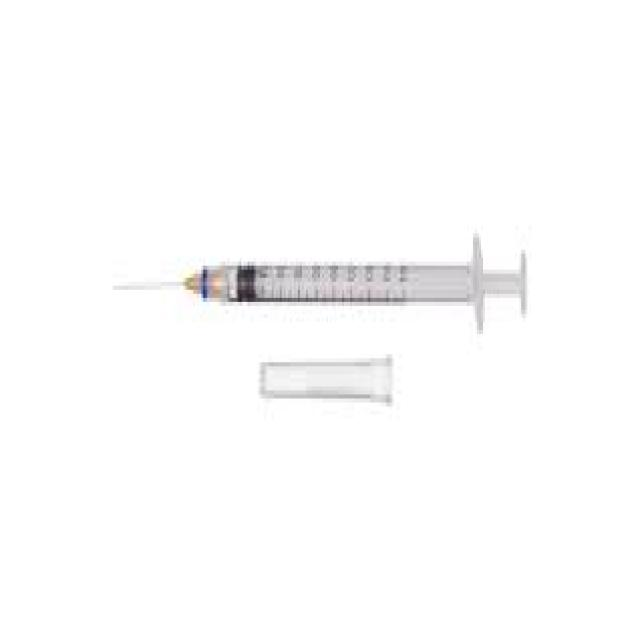syringe: (111, 229, 527, 330)
